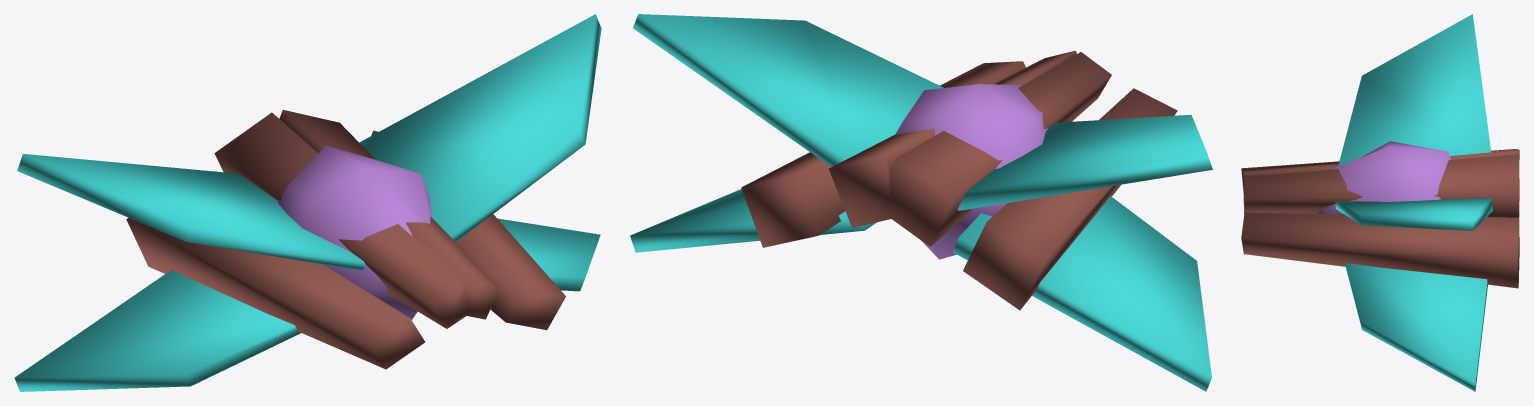
The model's file is ship_3.gltf.
3 renders of one model, left to right at view 1: azimuth 30°, elevation 25°; view 2: azimuth 150°, elevation 25°; view 3: azimuth 270°, elevation 25°, orthographic. The views are drawn at different scales.
Visible parts, largest first — view 1: gtlf; view 2: gtlf; view 3: gtlf.
Part boxes in pixels (x1,y1,x2,y2): gtlf: (14, 14, 601, 391); gtlf: (630, 14, 1212, 391); gtlf: (1241, 14, 1519, 391).
Bounding box in the file's own units: 1.78 × 0.6946 × 1.01.
